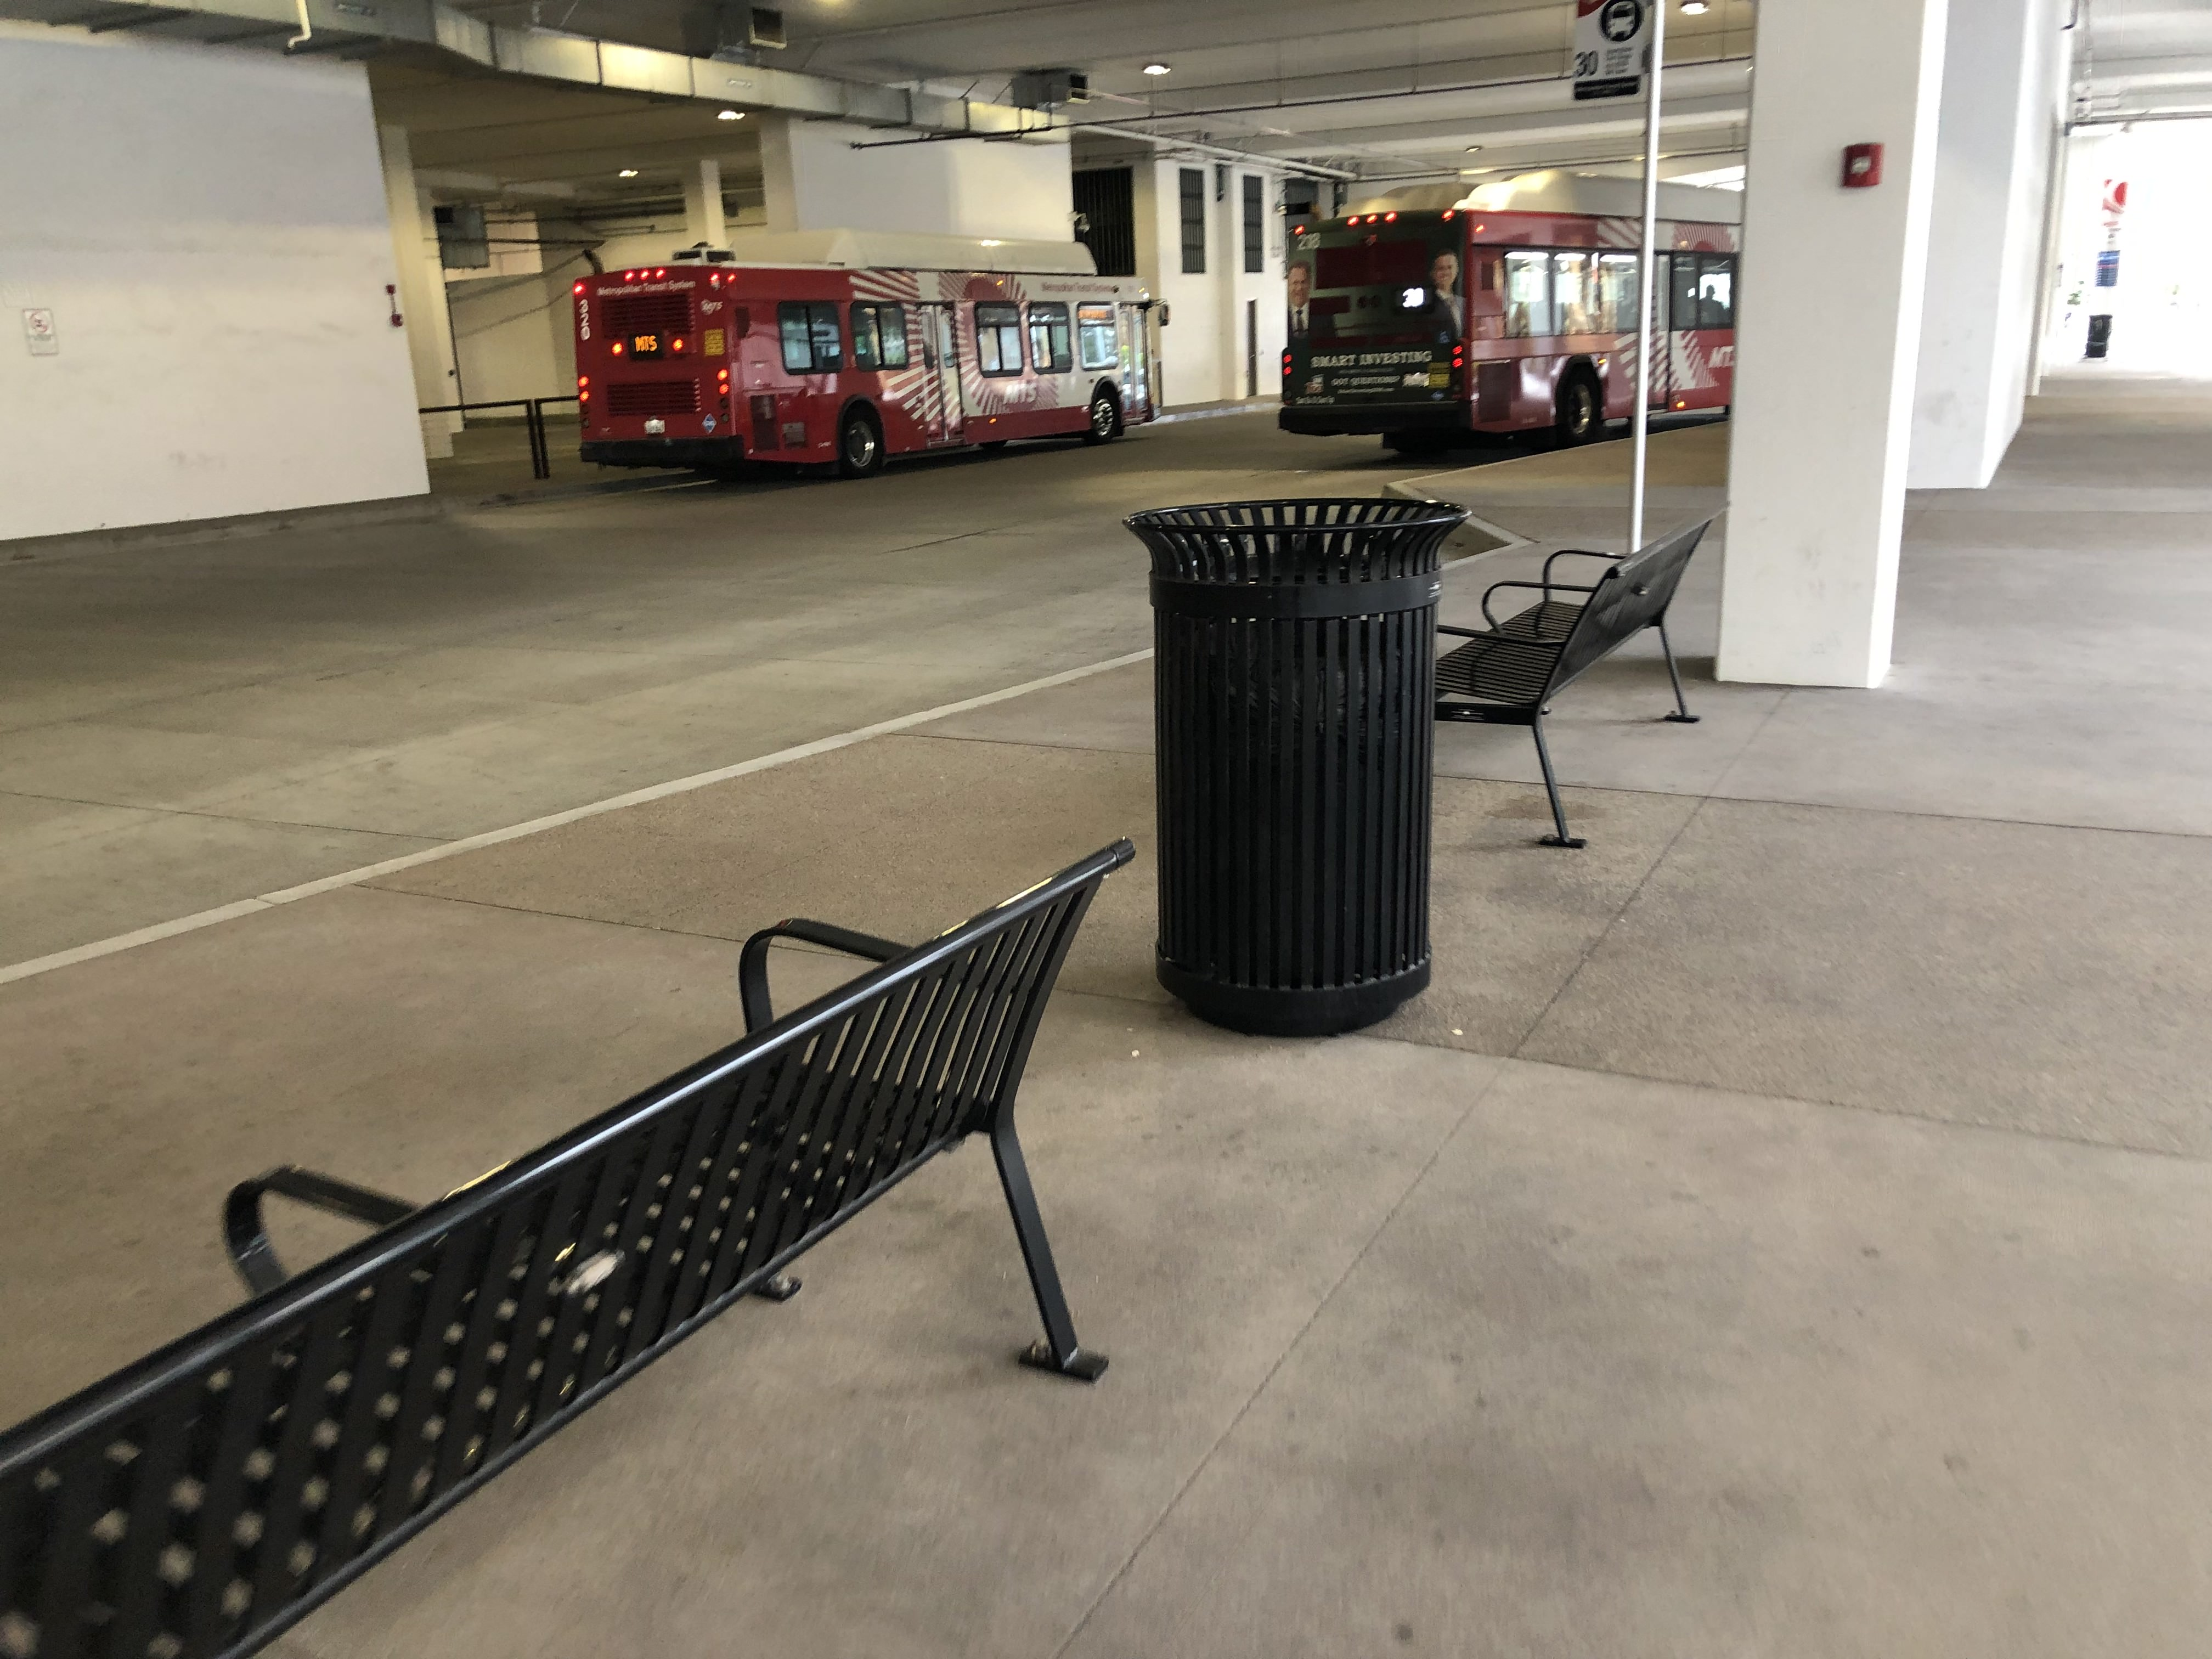Edge: (12, 633, 1139, 992)
Obstacle: (5, 840, 1139, 1629), (1123, 471, 1454, 1040), (559, 234, 1162, 481), (1733, 3, 1939, 699), (1271, 192, 1756, 450), (1416, 535, 1705, 836), (1893, 5, 2055, 490), (1573, 12, 1691, 542)
